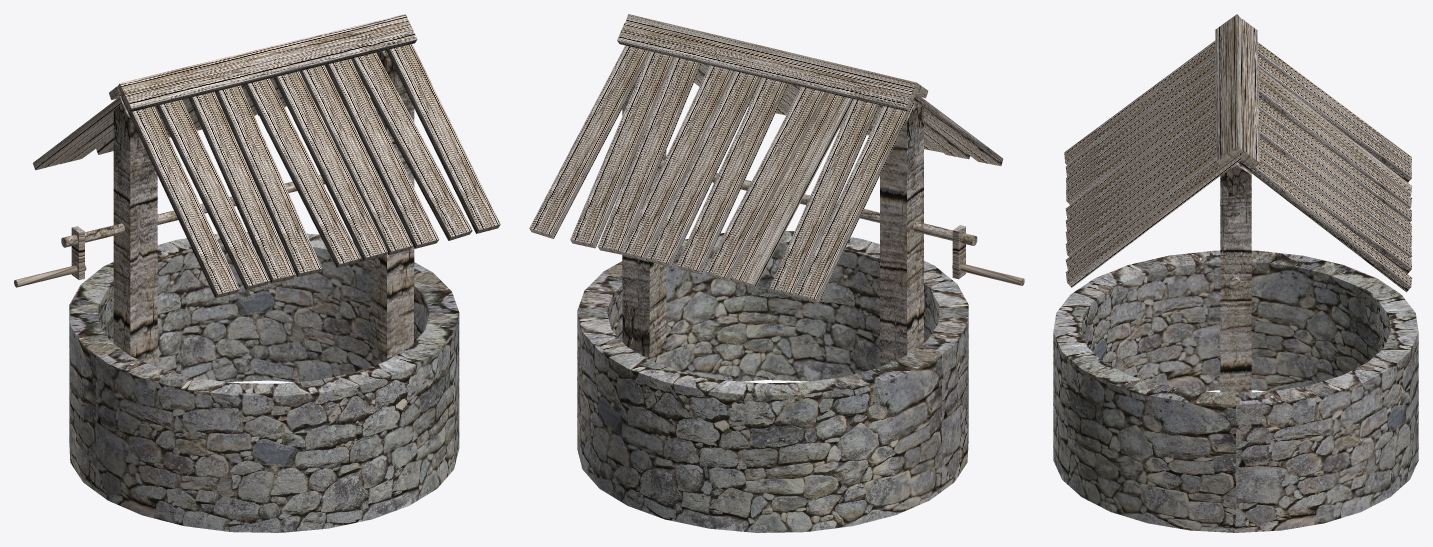
The model's file is water well.fbx.
3 views of the same model, side by side, from view 1: azimuth 30°, elevation 25°; view 2: azimuth 150°, elevation 25°; view 3: azimuth 270°, elevation 25° (orthographic). The views are drawn at different scales.
Parts seen in each view (by area): view 1: polySurface23; view 2: polySurface23; view 3: polySurface23.
Boxes of the visible parts, x1,y1,x2,y2 form: polySurface23: (14, 14, 500, 532); polySurface23: (529, 14, 1024, 532); polySurface23: (1053, 14, 1418, 532).
Size of the model in its own units: 10.81 by 9.94 by 8.75.
